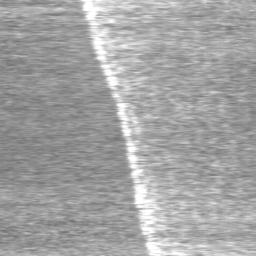Bright scratch: (82, 0, 160, 256)
